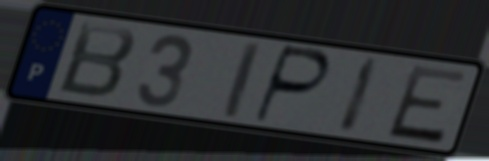3: (135, 31, 194, 108)
B: (54, 19, 141, 102)
E: (383, 63, 472, 147)
I: (334, 53, 384, 138), (221, 39, 264, 122)
P: (249, 42, 335, 127)
